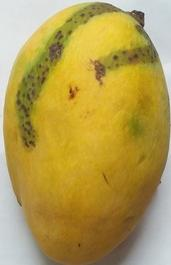Ripe: (1, 0, 171, 265)
